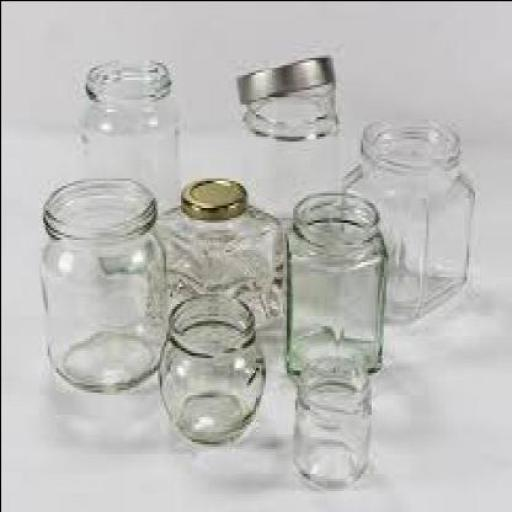glass: (40, 175, 167, 391), (345, 110, 476, 318), (288, 190, 389, 374), (150, 197, 288, 330), (160, 291, 266, 438), (80, 57, 180, 209), (243, 78, 337, 216), (296, 354, 372, 488)
metal: (240, 54, 336, 99), (184, 177, 248, 217)
